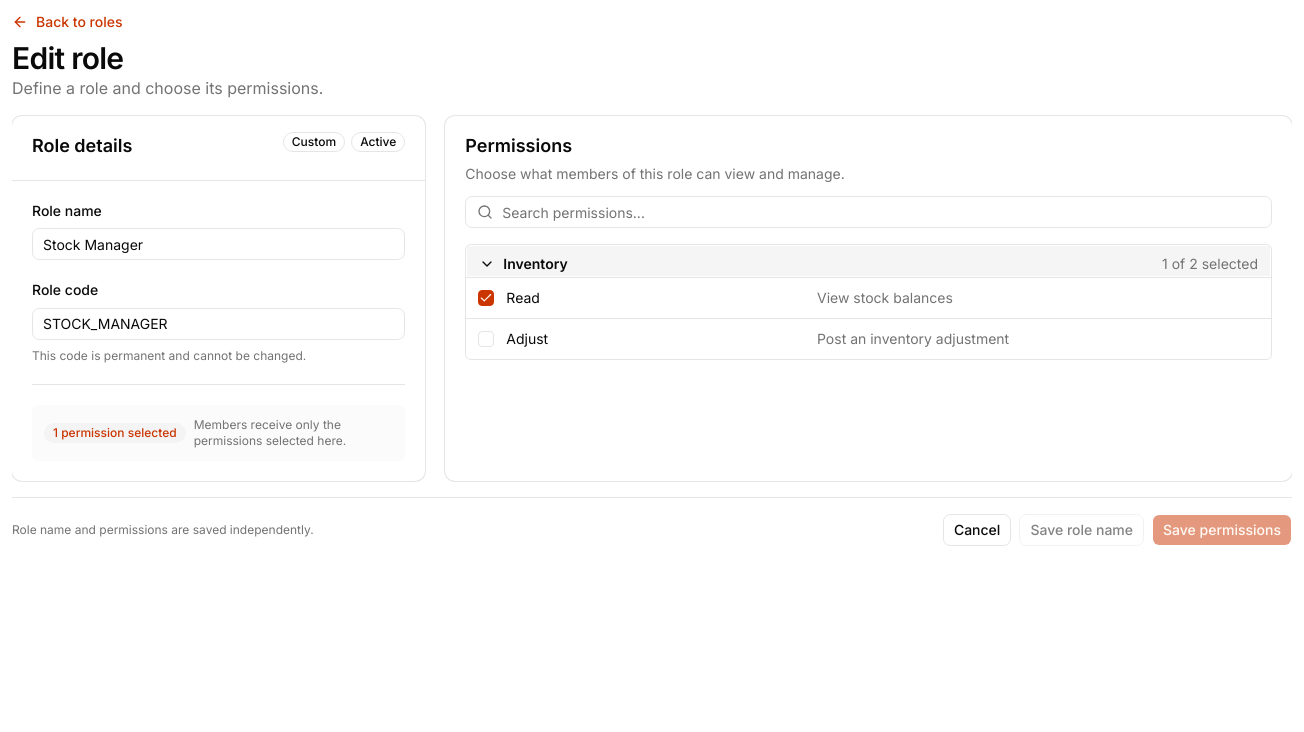
Test: role editor page › blocks the other save while a permission update is pending
The image size is (1304, 732).
Later steps or results of the test are not shown.
Click the checkbox named "Stock Manager inventory.adjust" in the row of "Post an inventory adjustment".
click(486, 339)  # box [478, 331, 494, 347]
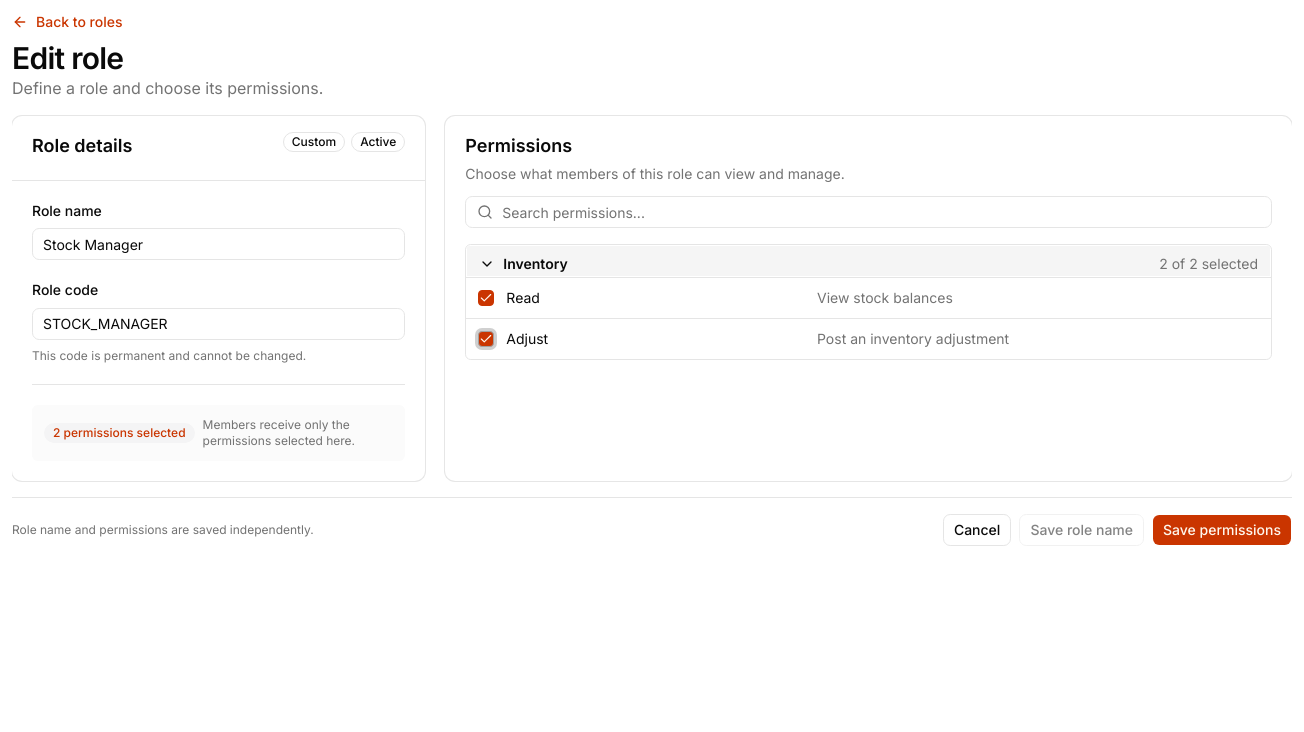
Click the button "Save permissions".
click(1222, 530)  # box [1152, 514, 1292, 546]
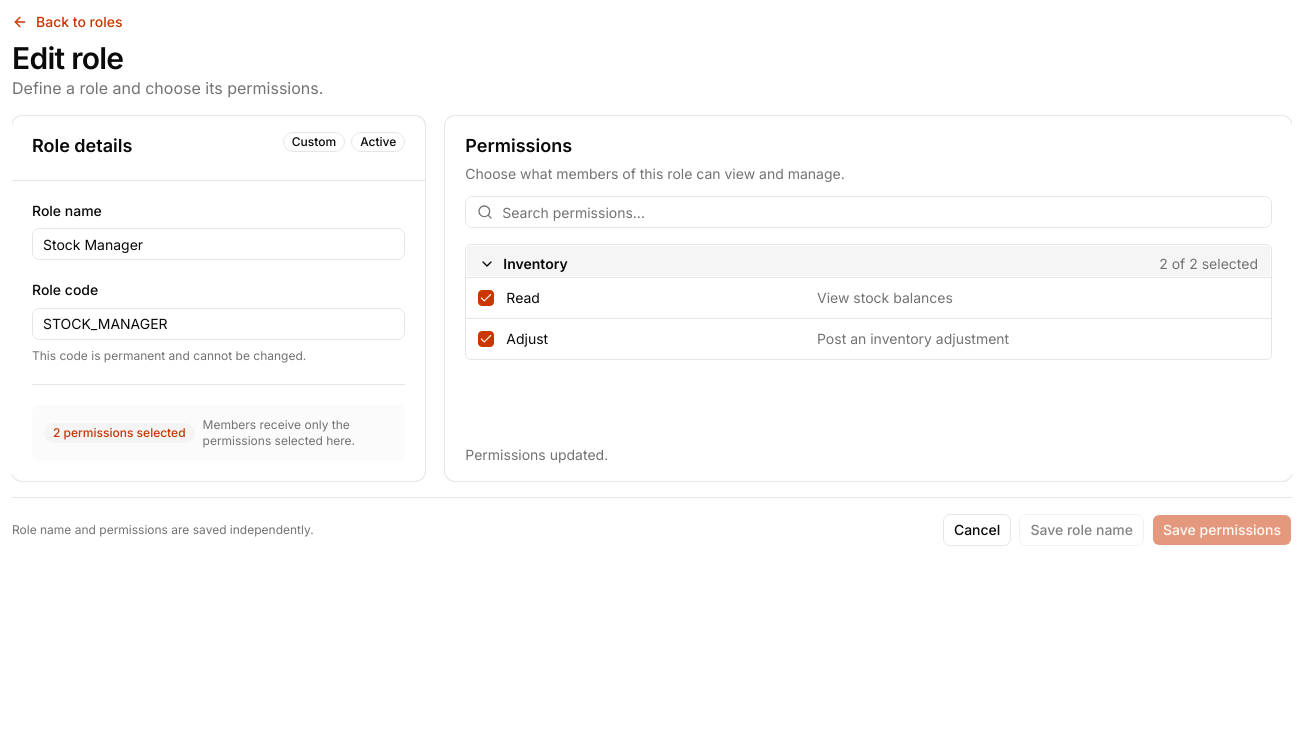
Expected: the button "Save role name" is disabled, [1019, 514, 1144, 546]
Now the button named "Saving permissions…" is disabled, box [1152, 514, 1292, 546]
Now the text "Permissions updated." is shown, box [465, 446, 608, 462]
